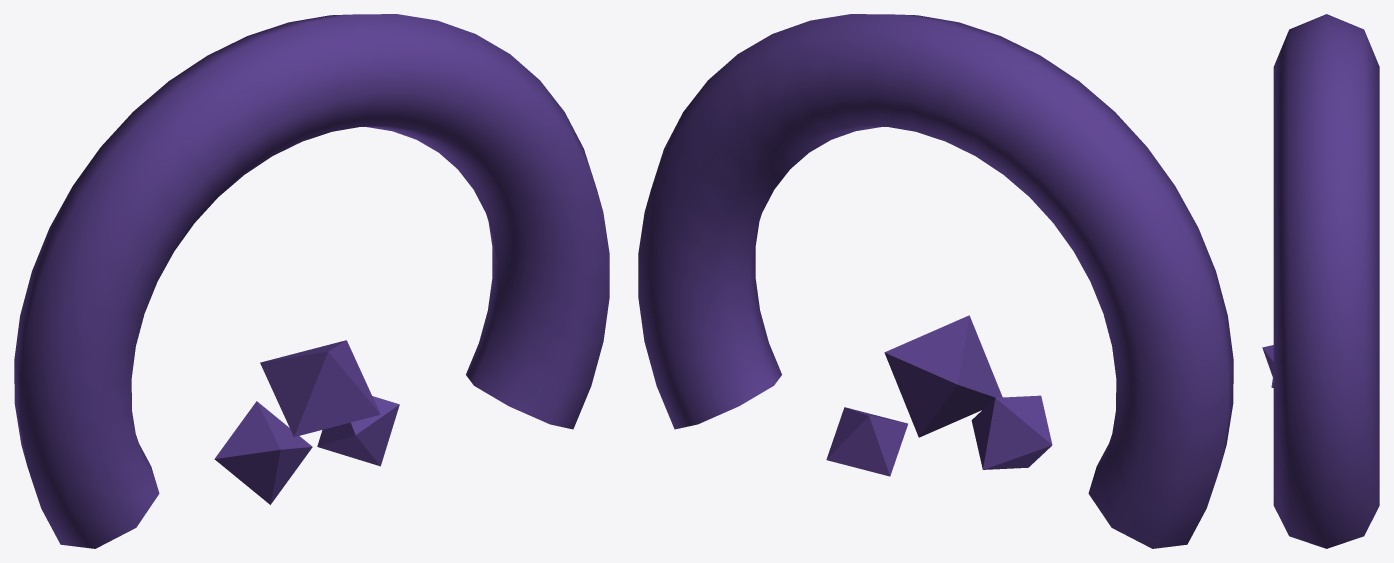
Rendered from deco-arch.glb.
3 views of the same model, side by side, from view 1: azimuth 30°, elevation 25°; view 2: azimuth 150°, elevation 25°; view 3: azimuth 270°, elevation 25° (orthographic). The views are drawn at different scales.
Bounding box in the file's own units: 3.16 × 2.4 × 0.6334.
